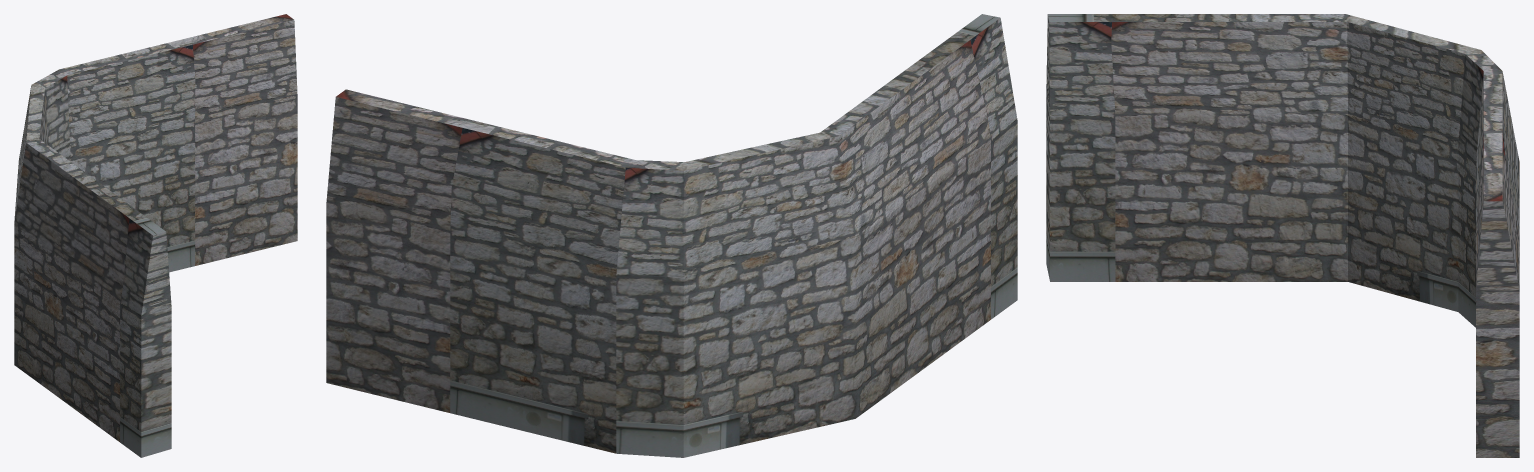
The model's file is TowerWall_Test.fbx.
3 views of the same model, side by side, from view 1: azimuth 30°, elevation 25°; view 2: azimuth 150°, elevation 25°; view 3: azimuth 270°, elevation 25° (orthographic). The views are drawn at different scales.
Parts seen in each view (by area): view 1: polySurface57, polySurface58; view 2: polySurface57, polySurface58; view 3: polySurface58, polySurface57.
Boxes of the visible parts, left/top/right/bottom form: polySurface57: left=14, top=14, right=297, bottom=272; polySurface58: left=14, top=139, right=171, bottom=457; polySurface57: left=326, top=89, right=855, bottom=457; polySurface58: left=820, top=14, right=1017, bottom=418; polySurface58: left=1046, top=14, right=1347, bottom=281; polySurface57: left=1345, top=14, right=1519, bottom=457.
Size of the model in its own units: 957 by 589 by 985.
1 material, 1 textured.
